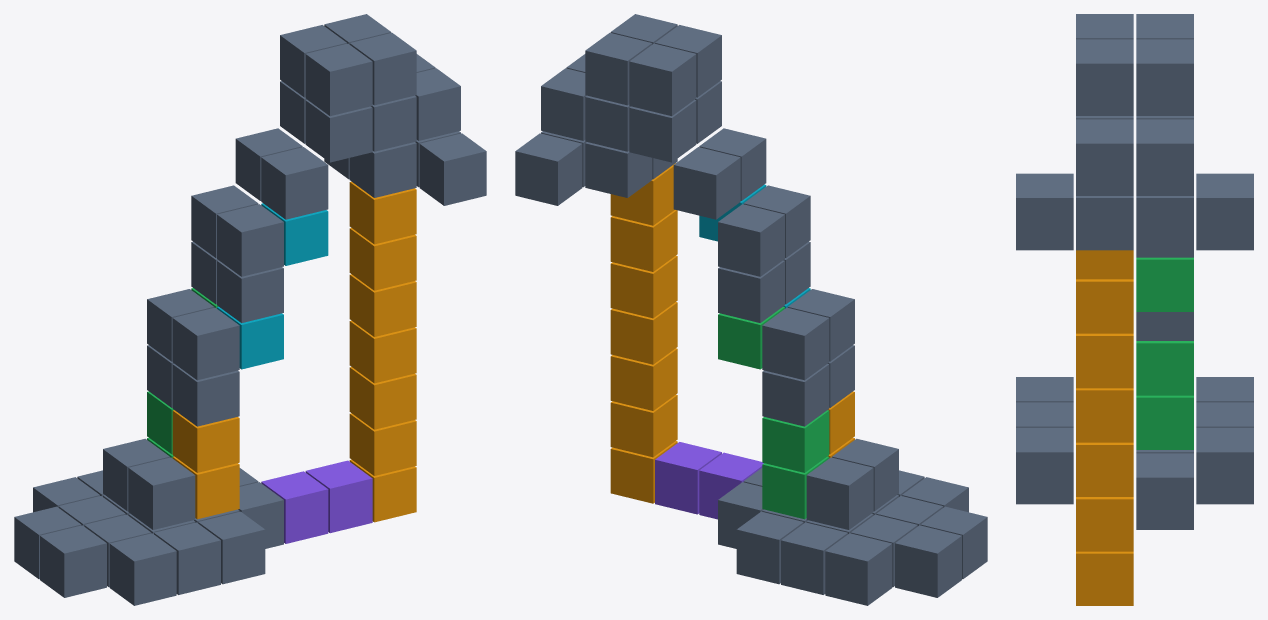
File: stabilized.glb
3 renders of one model, left to right at view 1: azimuth 30°, elevation 25°; view 2: azimuth 150°, elevation 25°; view 3: azimuth 270°, elevation 25°, orthographic. The views are drawn at different scales.
Visible parts, largest first — view 1: Original blocks, Columns, Footing, Bridges, Brackets; view 2: Original blocks, Columns, Brackets, Footing, Bridges; view 3: Original blocks, Columns, Brackets.
Part boxes in pixels (bbox=[...]): Original blocks: bbox=[14, 14, 486, 605]; Columns: bbox=[172, 181, 416, 522]; Footing: bbox=[261, 460, 372, 543]; Bridges: bbox=[217, 203, 328, 369]; Brackets: bbox=[147, 288, 218, 458]; Original blocks: bbox=[515, 14, 987, 605]; Columns: bbox=[610, 163, 854, 503]; Brackets: bbox=[718, 306, 829, 519]; Footing: bbox=[655, 442, 763, 519]; Bridges: bbox=[699, 184, 810, 308]; Original blocks: bbox=[1016, 14, 1253, 529]; Columns: bbox=[1076, 250, 1133, 605]; Brackets: bbox=[1136, 257, 1193, 449].
Bounding box in the file's own units: 0.896 × 0.996 × 0.396.
